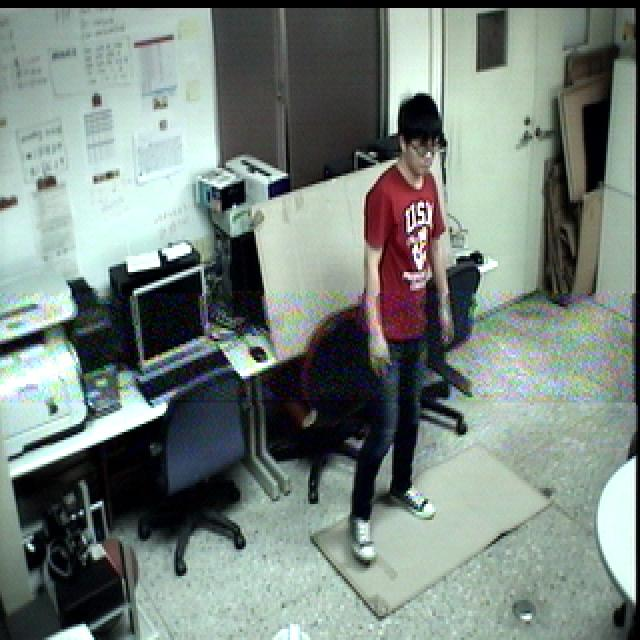stand: (341, 86, 463, 564)
